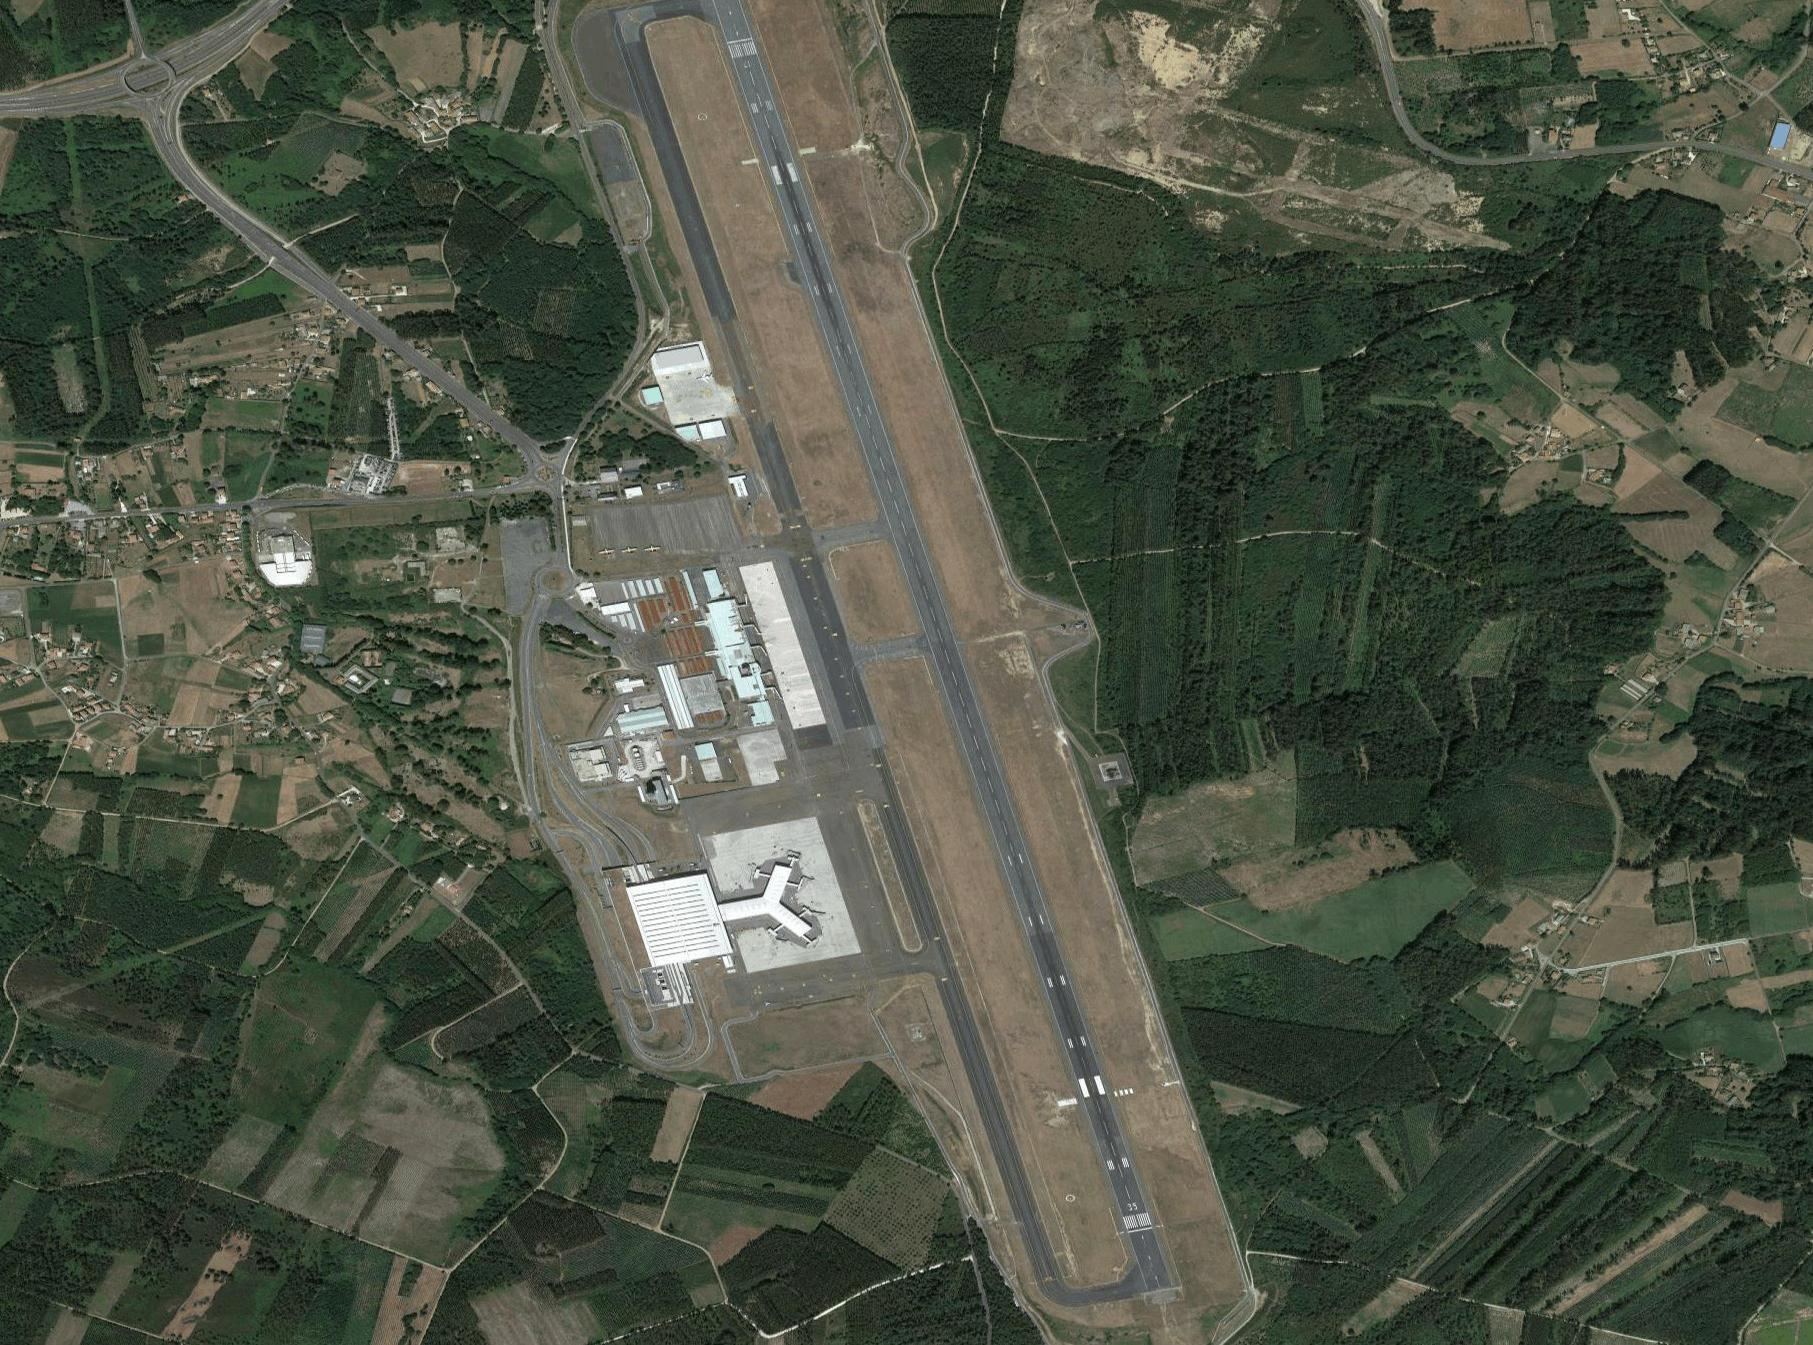airport: (536, 1, 1187, 1311)
motorway: (1, 1, 318, 124)
